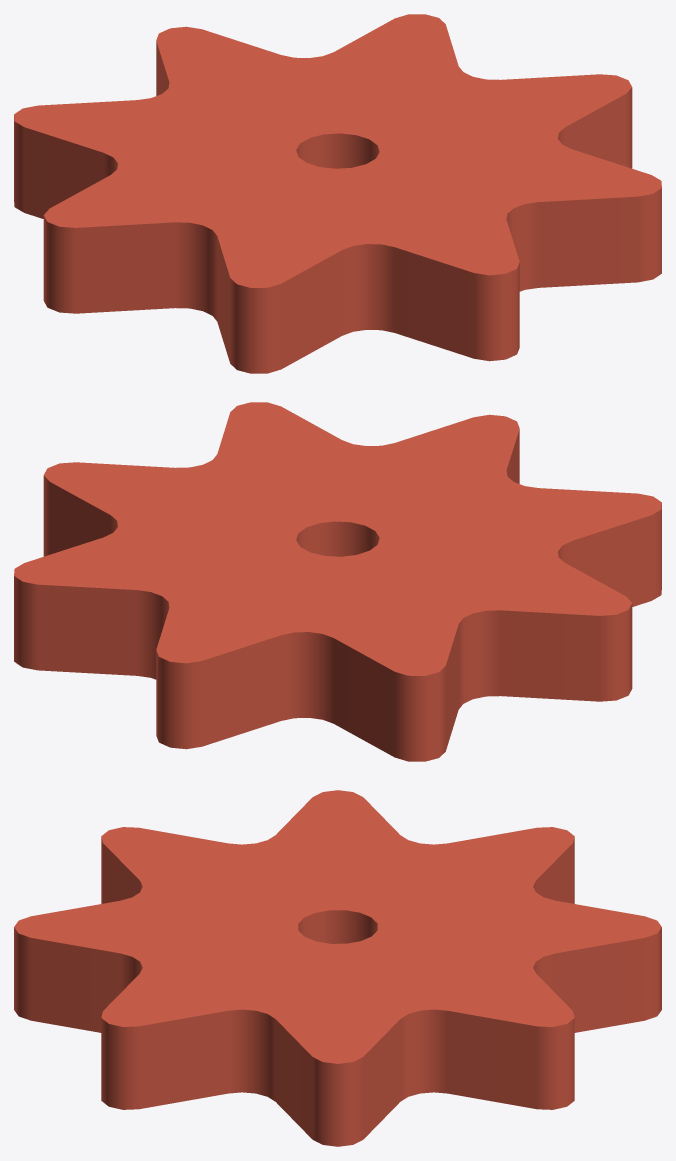
Rendered from SM_Board_Border_01a.fbx.
The picture shows the model from 3 angles, top to bottom: view 1: azimuth 30°, elevation 25°; view 2: azimuth 150°, elevation 25°; view 3: azimuth 270°, elevation 25°; orthographic projection. The views are drawn at different scales.
Visible parts, largest first — view 1: SM_Obstacle_01b; view 2: SM_Obstacle_01b; view 3: SM_Obstacle_01b.
Part boxes in pixels (left/top/right/bottom): SM_Obstacle_01b: left=14, top=14, right=661, bottom=373; SM_Obstacle_01b: left=14, top=402, right=661, bottom=761; SM_Obstacle_01b: left=14, top=790, right=661, bottom=1146.
Size of the model in its own units: 303 by 42.74 by 303.
